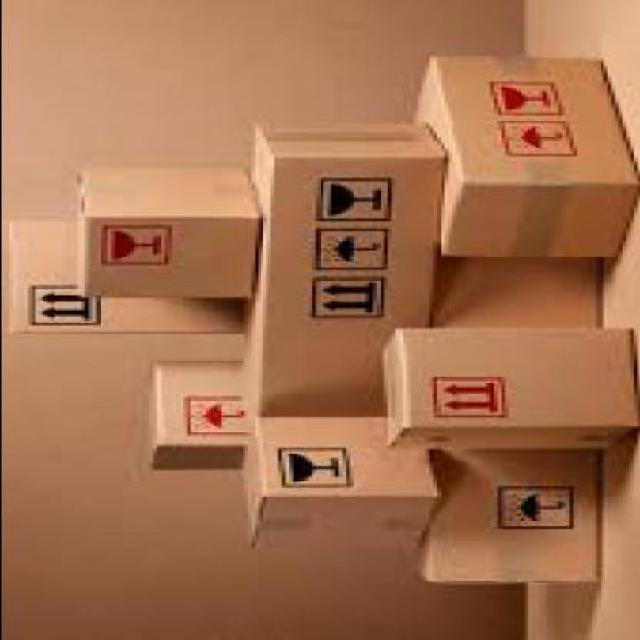CARDBOARD: (239, 120, 439, 420), (409, 53, 636, 255), (372, 326, 636, 446), (4, 217, 250, 334), (238, 415, 432, 548), (409, 449, 594, 583), (76, 162, 258, 298), (428, 250, 606, 328), (140, 358, 251, 468)
